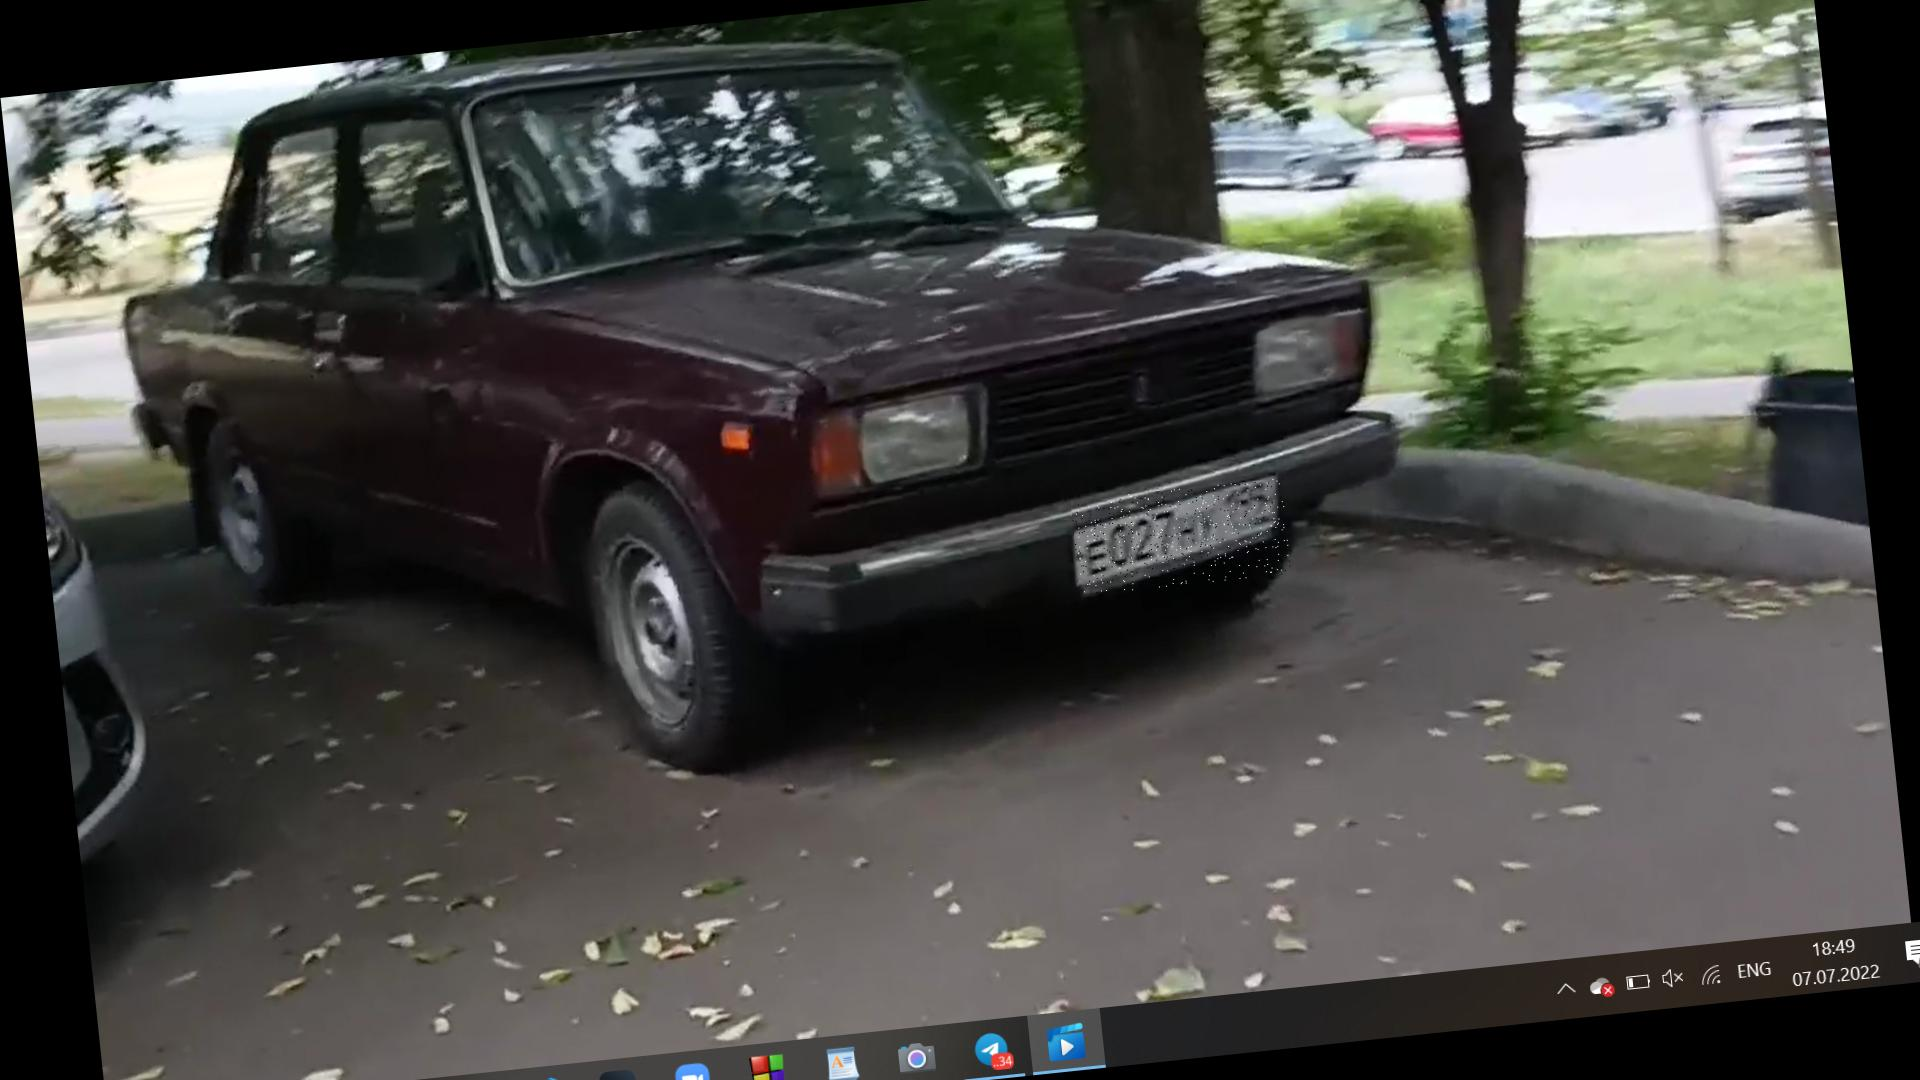plate: (1073, 480, 1294, 598)
